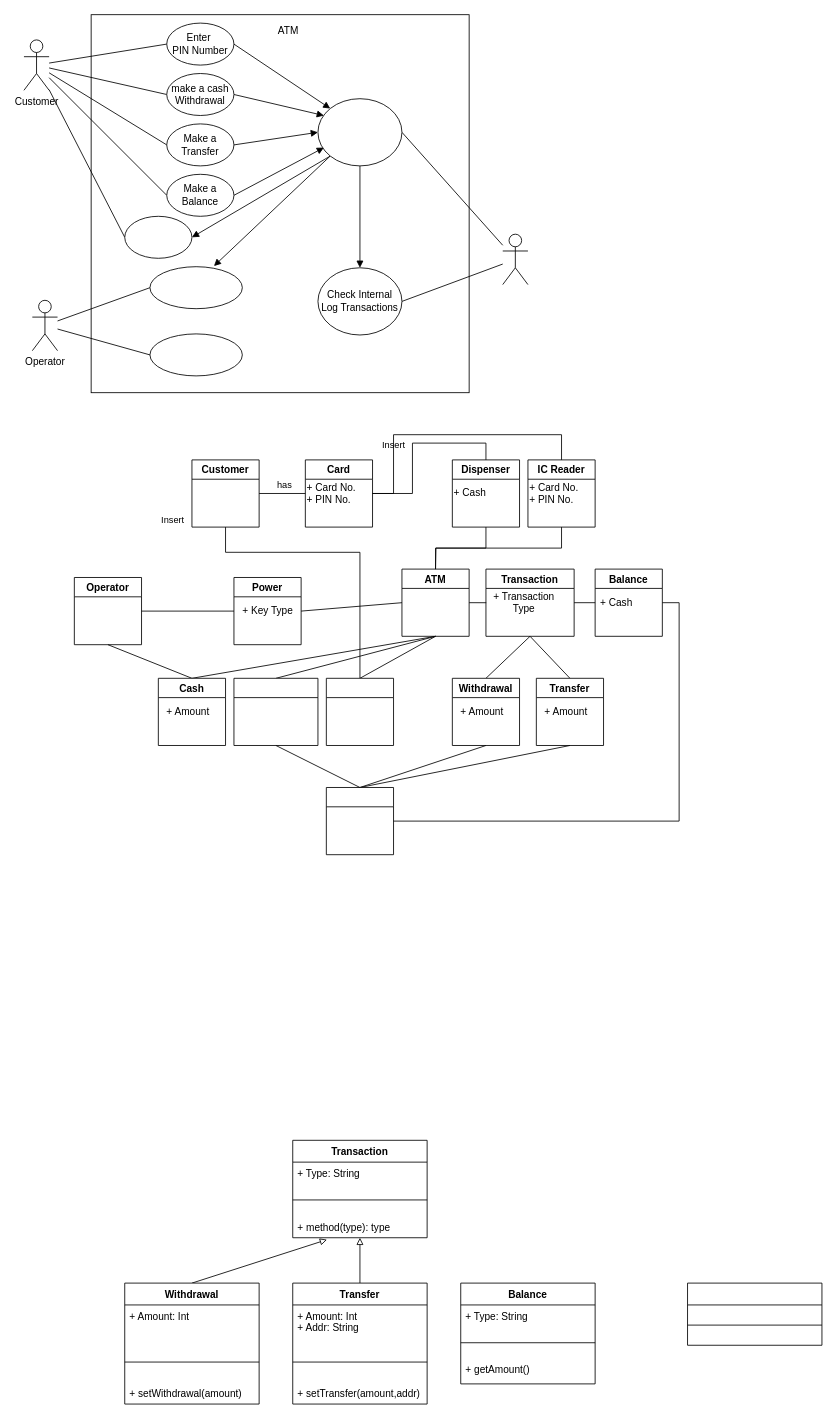
This 837x1421 diagram has some shape labels left out. Each missing label, with the centre of its shape:
Bank: point 360,821
Bank Service: point 515,259
Bank System: point 754,1313
Commutication and Verification by Bank: point 359,132
Log Transaction: point 275,711
Print Receipt: point 158,236
Recipt: point 360,711
Turn On/Off the Machine: point 195,354
verify and enter the total cash on hand: point 195,287
